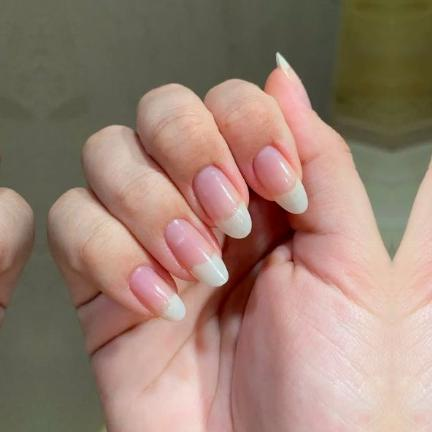Nail: (163, 218, 228, 287), (192, 166, 251, 239), (253, 146, 308, 214), (128, 266, 185, 322), (277, 51, 311, 109)
